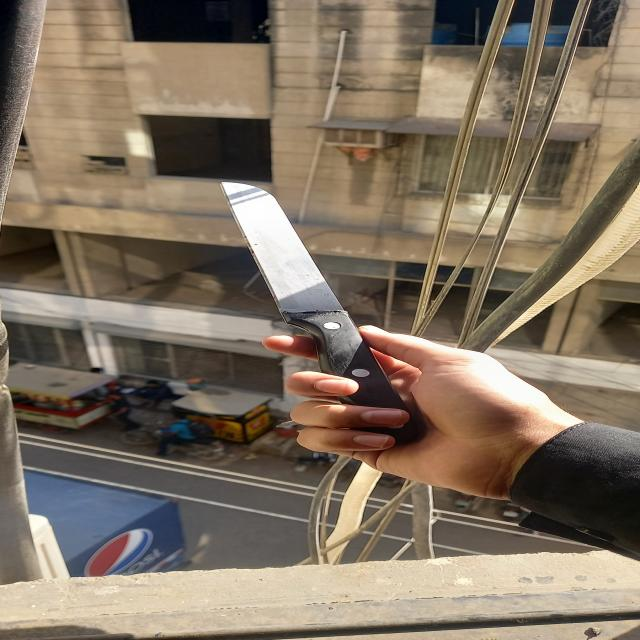weapon: (202, 174, 416, 462)
